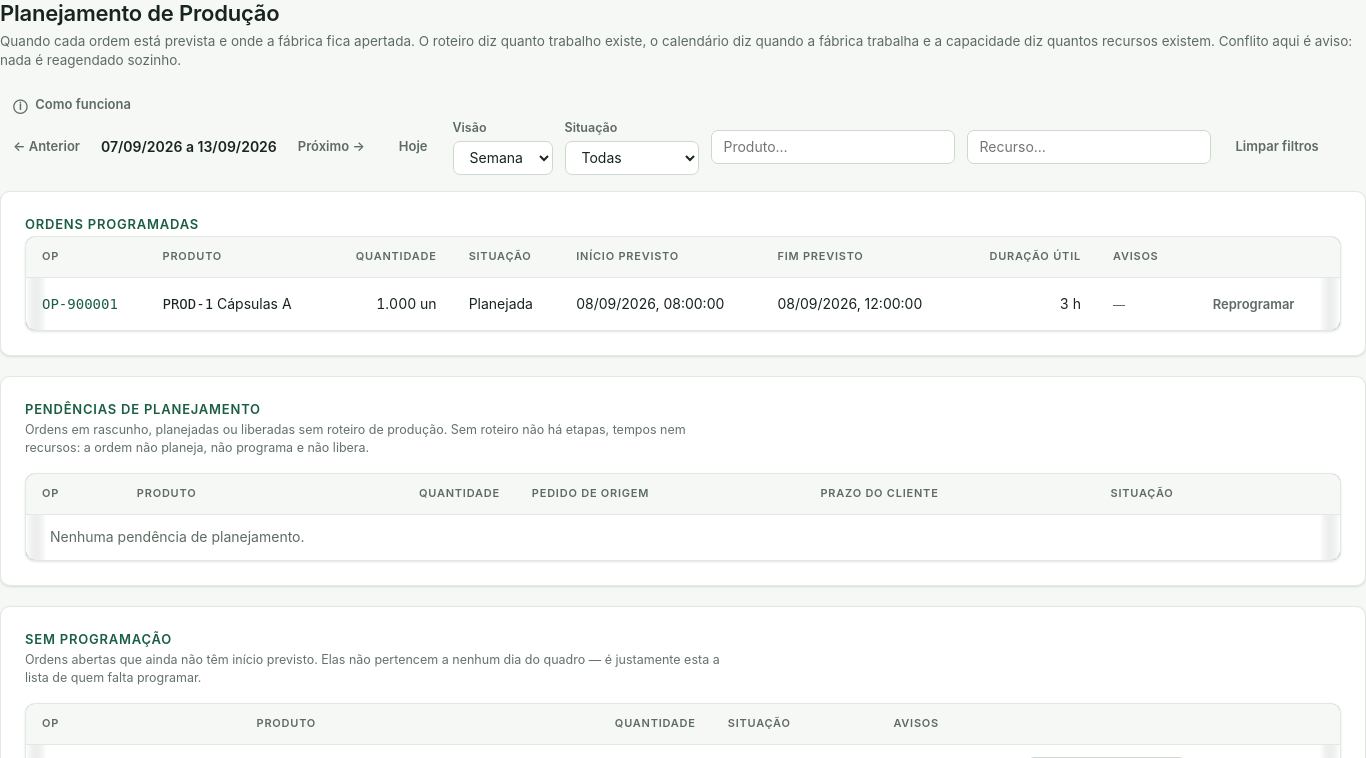
Scenario: Quadro de Produção — consulta em curso › falha: o alerta sem o quadro anterior e sem vazio falso; a recusa de validação fala as issues
This screenshot has width=1366, height=758.
Step 1. Select "Liberada" in the dropdown labelled "Situação" → [632, 158], box [564,141,698,175]
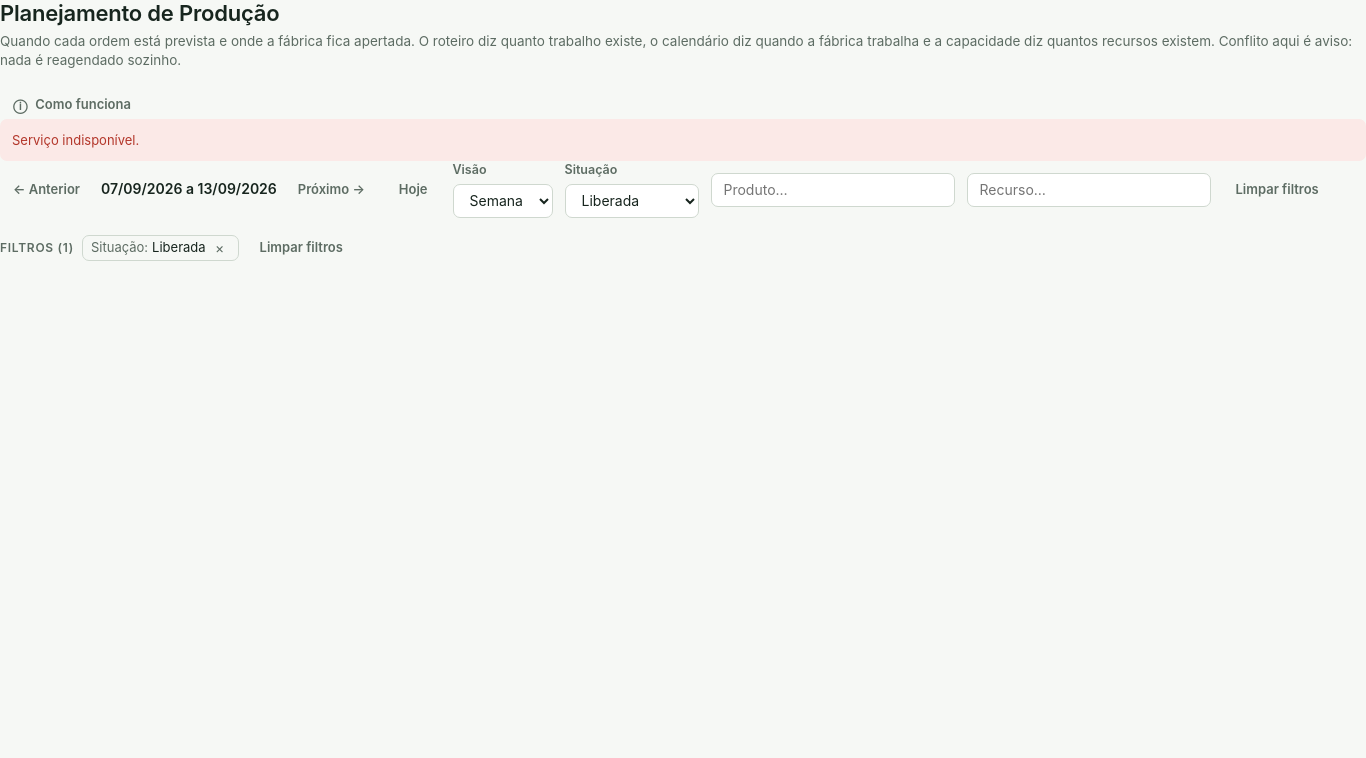
Result: the message reads "Serviço indisponível." at [12,132,139,148]
Result: the heading "Ordens programadas" is gone
Step 2. Select "Planejada" in the dropdown labelled "Situação" → [632, 201], box [564,184,698,218]
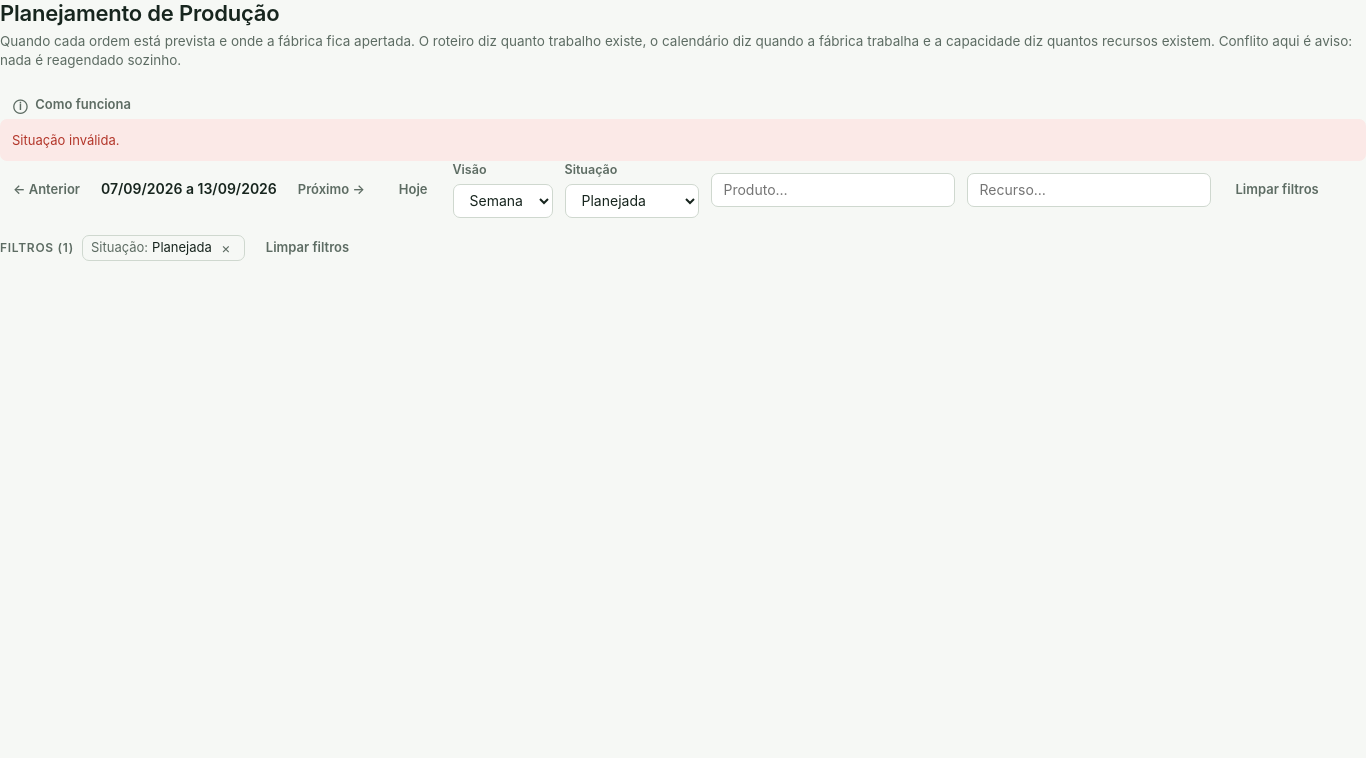
Result: the message reads "Situação inválida." at [12,132,120,148]
